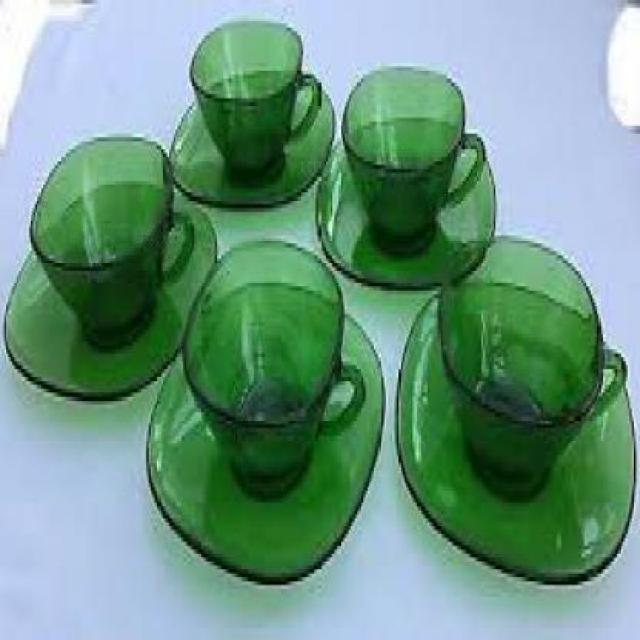GLASS: (392, 274, 634, 580), (145, 278, 386, 577), (438, 231, 625, 487), (5, 176, 217, 401), (180, 232, 366, 479), (29, 134, 192, 337), (312, 114, 496, 286), (336, 62, 484, 244), (168, 63, 334, 205), (188, 16, 322, 176)
